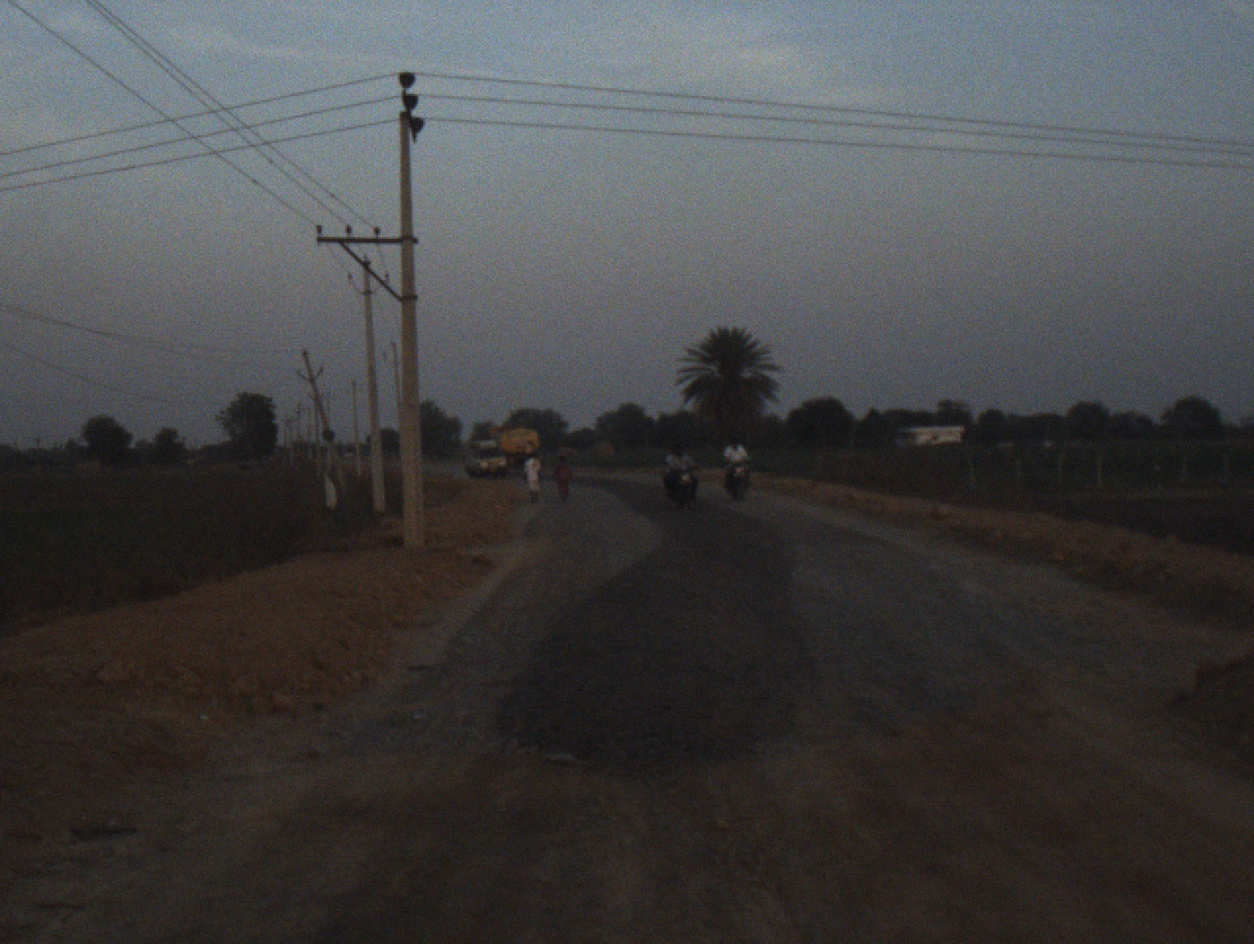car: (467, 438, 510, 480)
motorcycle: (662, 463, 699, 516), (726, 462, 754, 506)
person: (523, 449, 545, 509), (554, 449, 574, 502)
rider: (666, 447, 699, 501), (722, 433, 752, 464)
truck: (495, 420, 542, 464)
